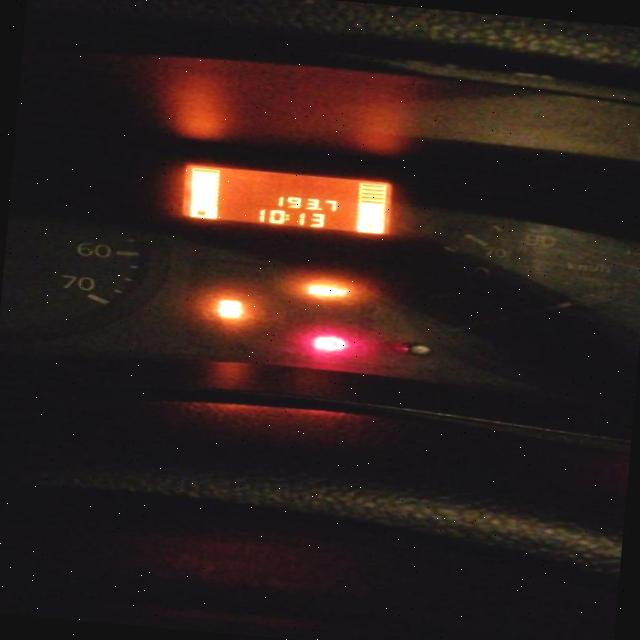odometer: (170, 158, 402, 238)
